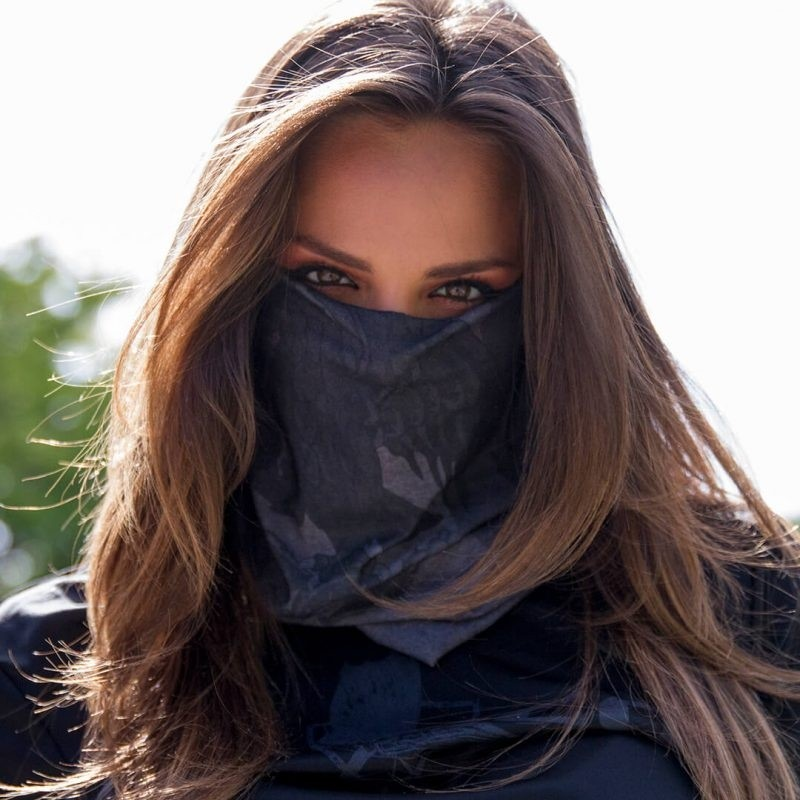face_with_mask: (242, 82, 555, 505)
